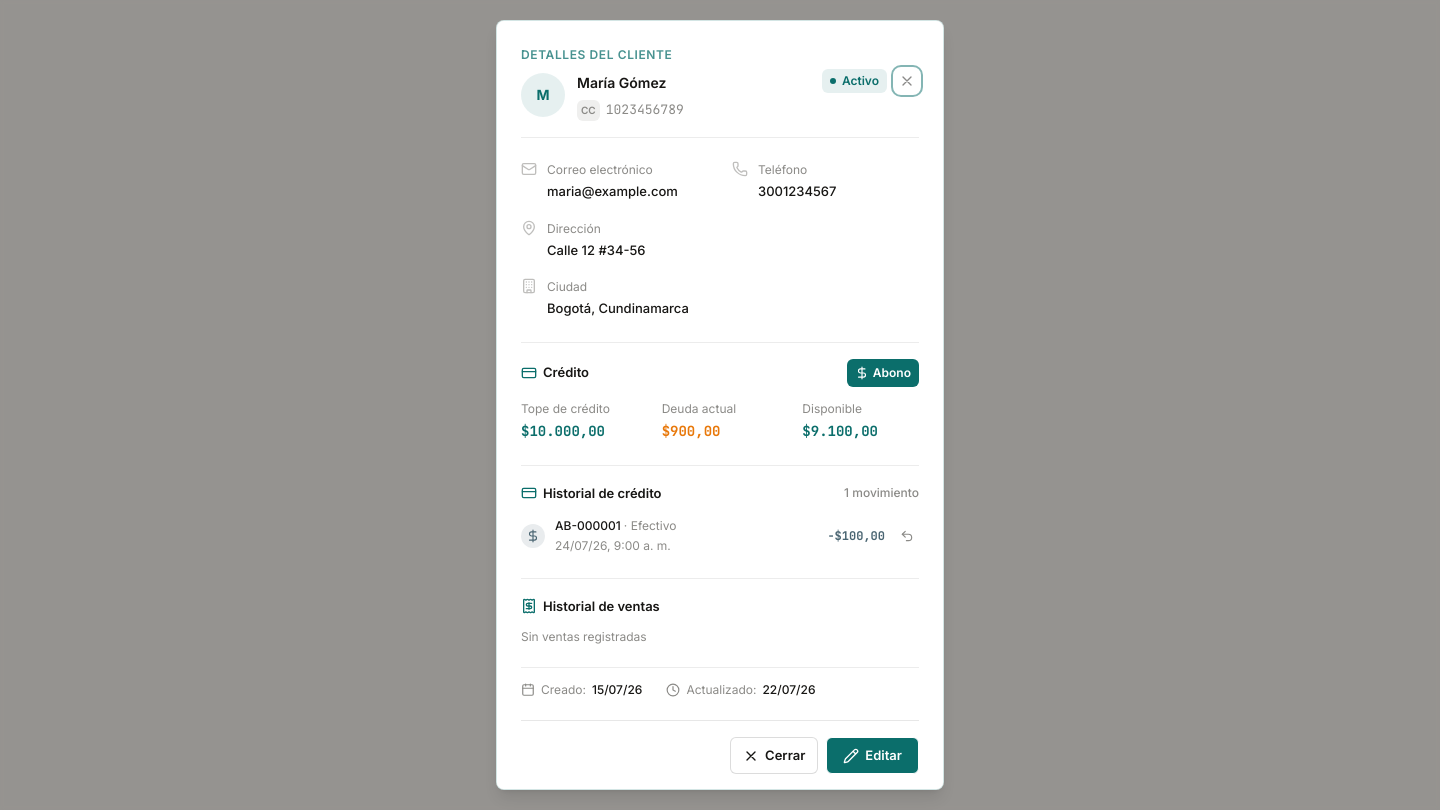
Scenario: ClientDetailDialog › credit payment annulment (ADMIN) › requires an annulment reason before submitting
The image size is (1440, 810).
Click the button named "Anular".
click(907, 536)  # box left=895, top=524, right=919, bottom=548
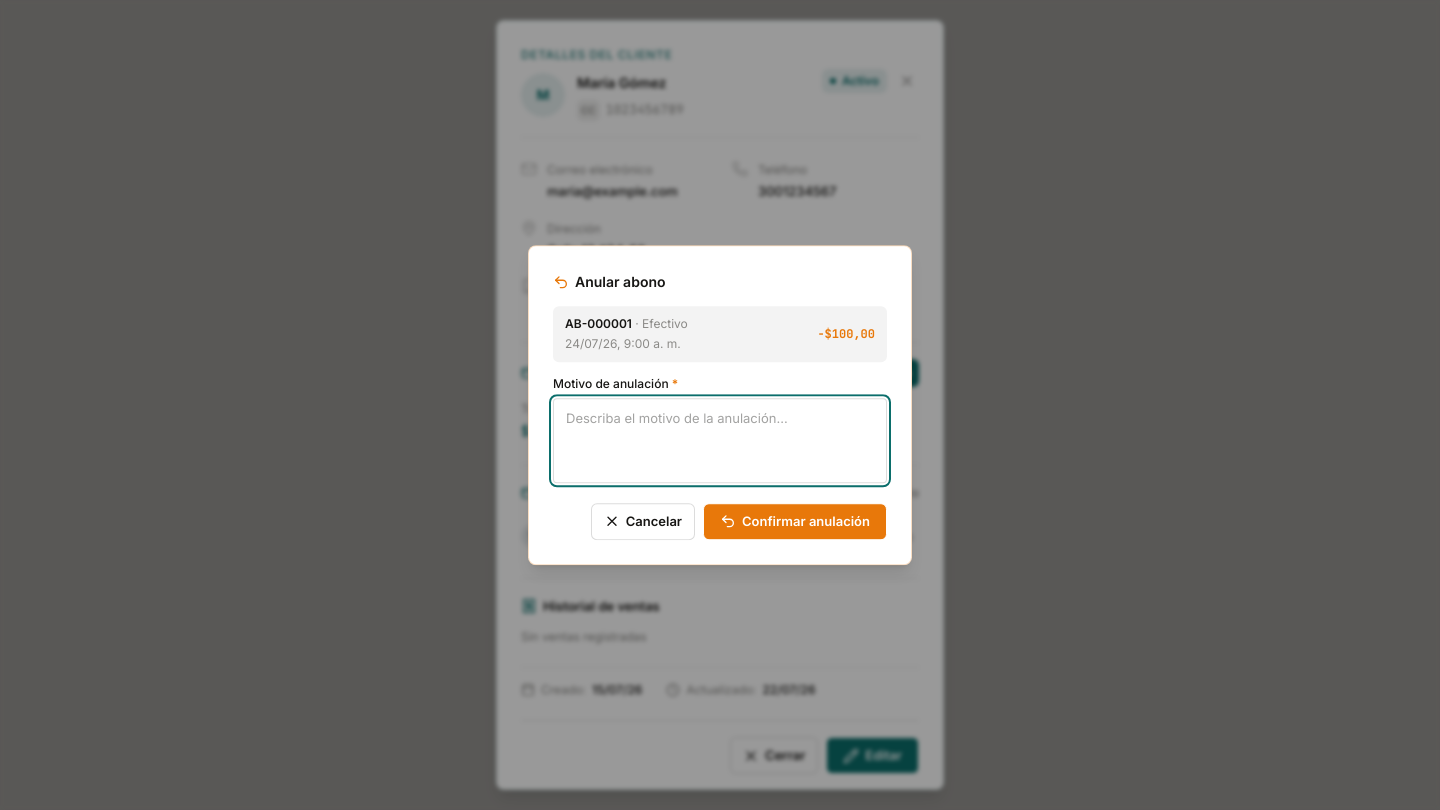
Click the button "Confirmar anulación".
click(795, 522)  # box left=703, top=503, right=887, bottom=540
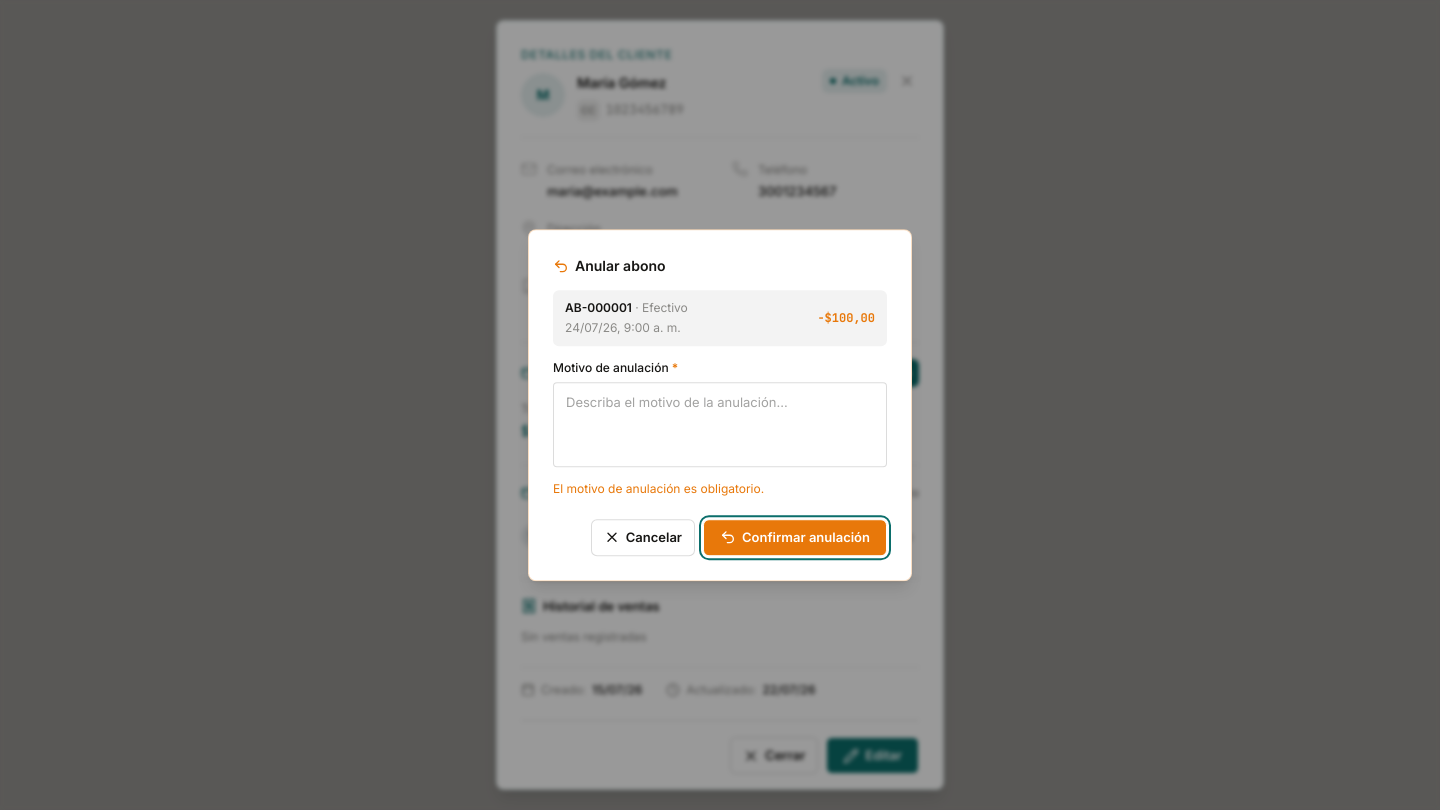
Check: the text "El motivo de anulación es obligatorio." is shown, box left=553, top=481, right=764, bottom=496
